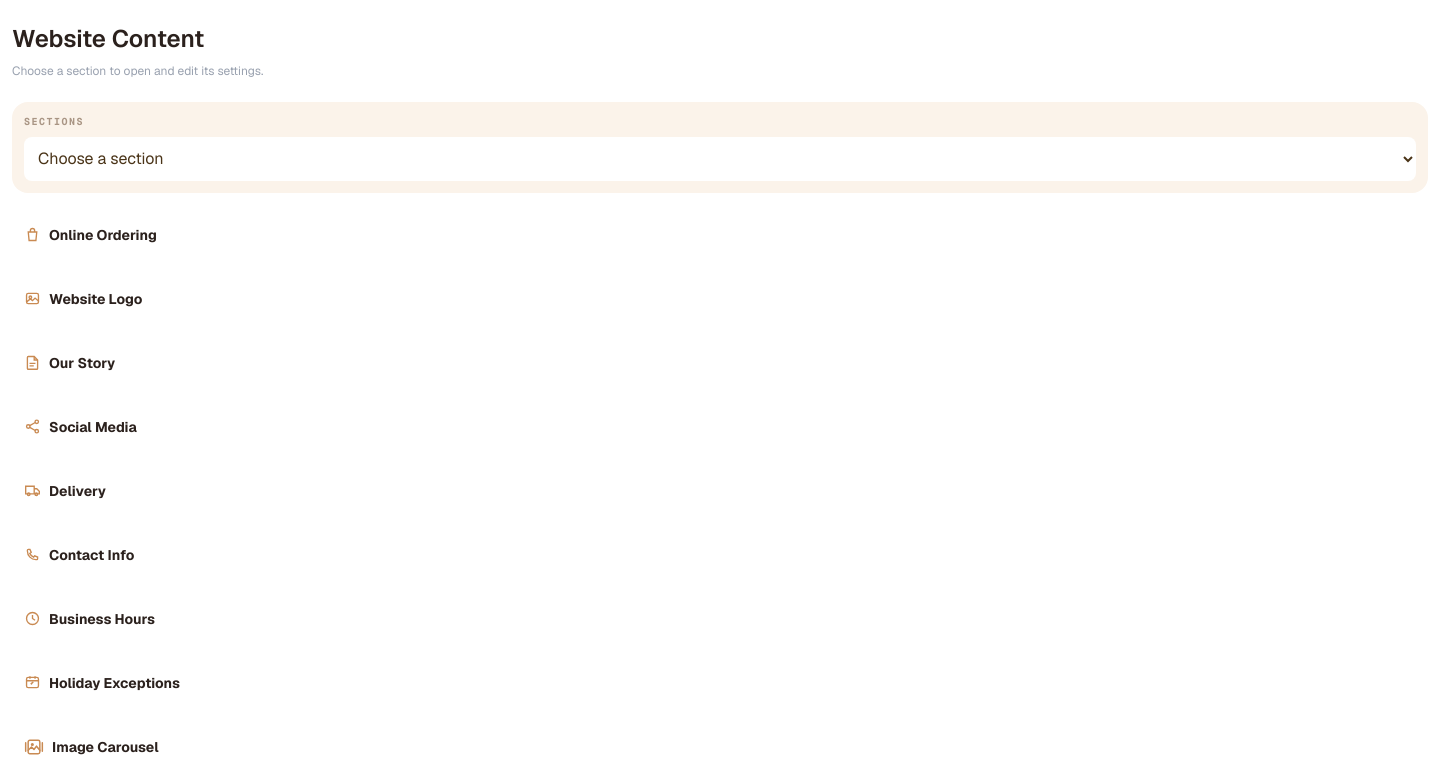
Scenario: confirmed website content deletion › saves pending edits before deletion and uses the returned revision
This screenshot has width=1440, height=783.
Step 1. Select "Social Media" in the dropdown labelled "Sections" → coordinates (720, 158), box [24, 136, 1416, 180]
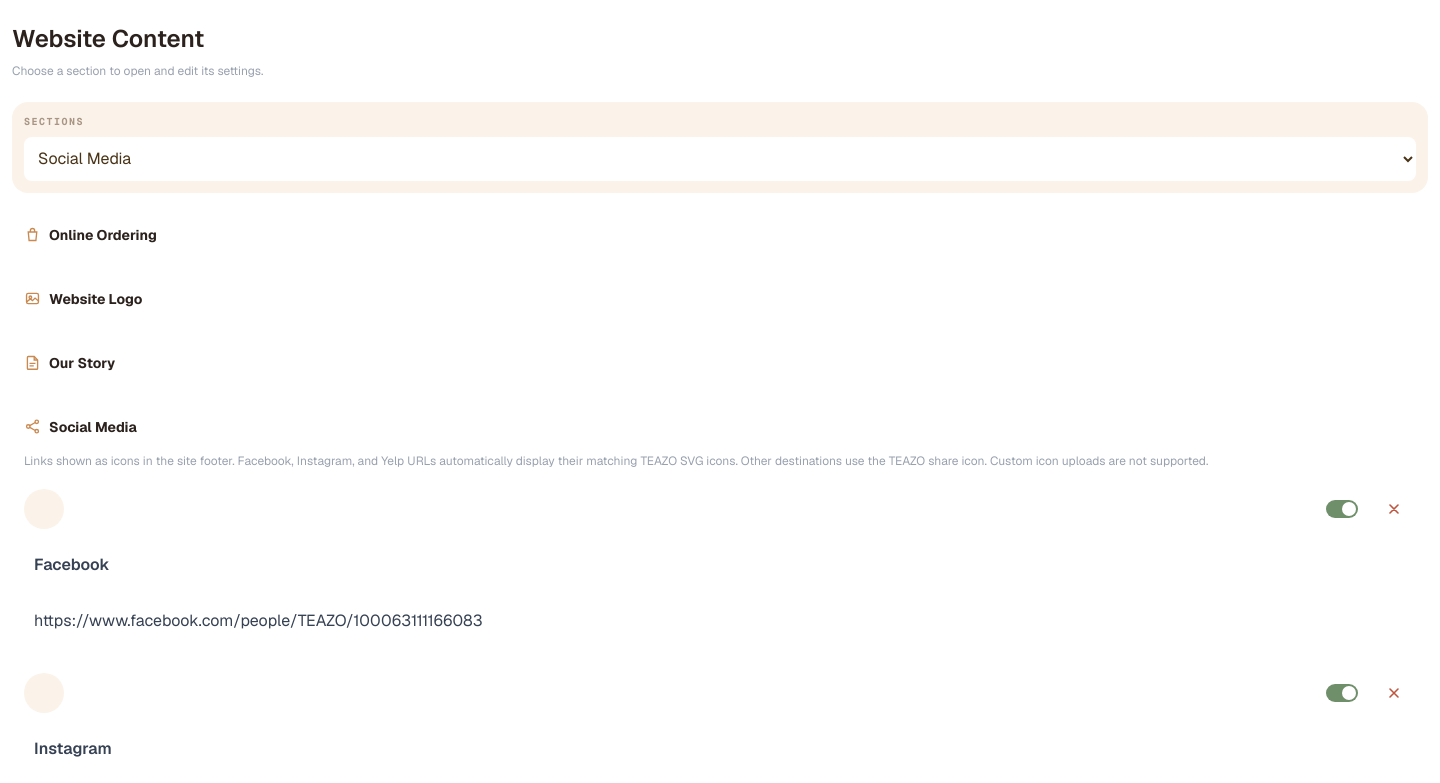
Step 2. Replace the text in the field named "Facebook link" with "https://facebook.com/updated" → coordinates (720, 620), box [24, 598, 1416, 642]
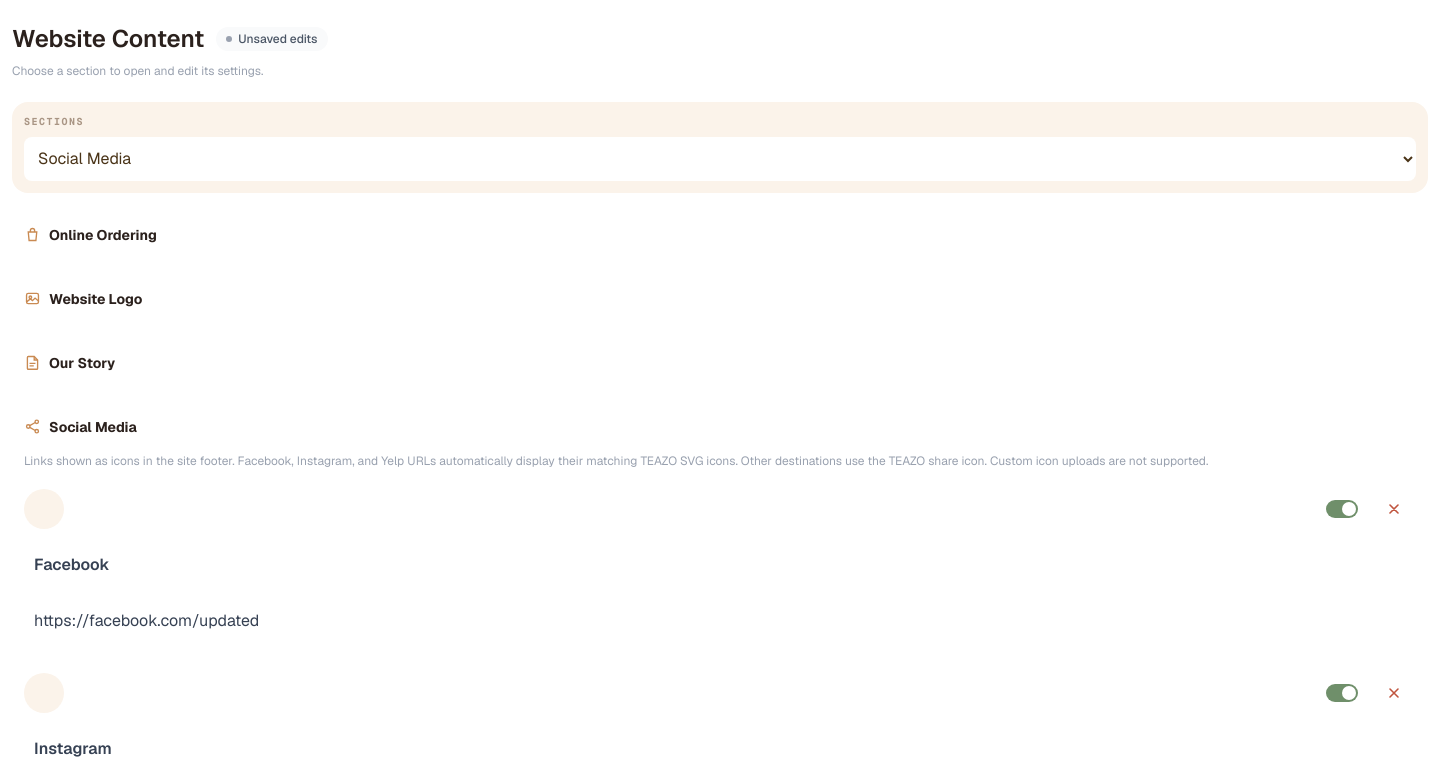
Step 3. Click the button named "Remove Facebook" → coordinates (1394, 508), box [1372, 486, 1416, 530]
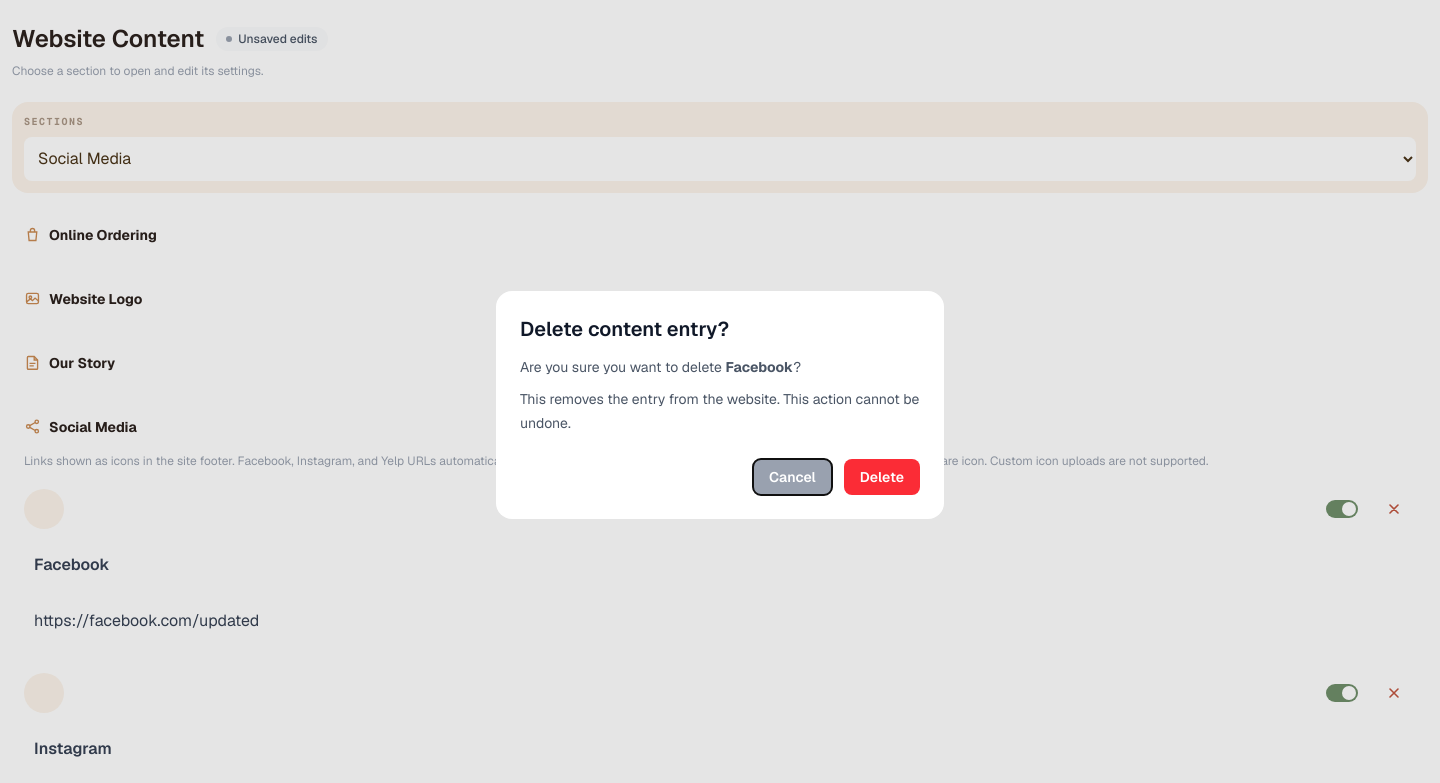
Step 4. Click the button "Delete" → coordinates (882, 477), box [844, 459, 920, 495]
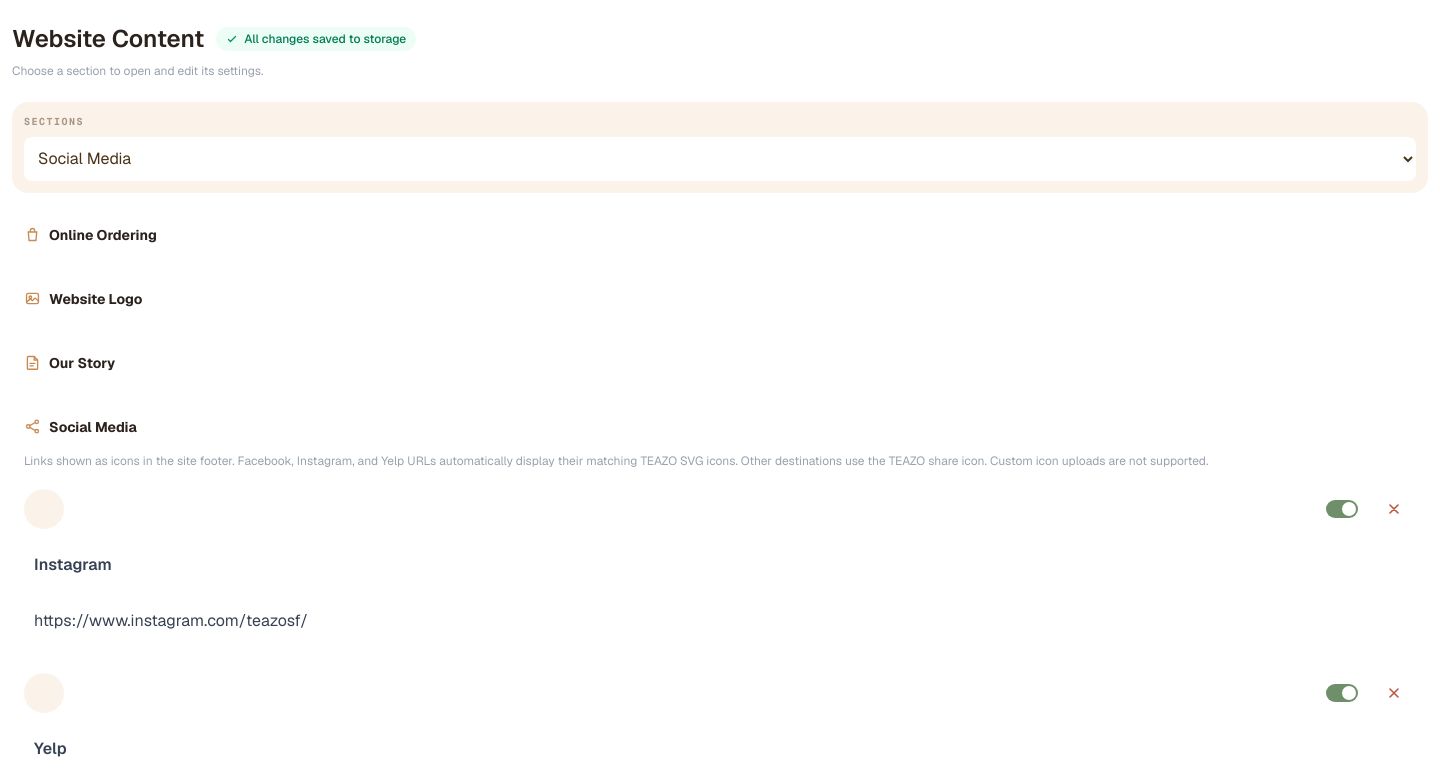
Check: the dialog is gone
